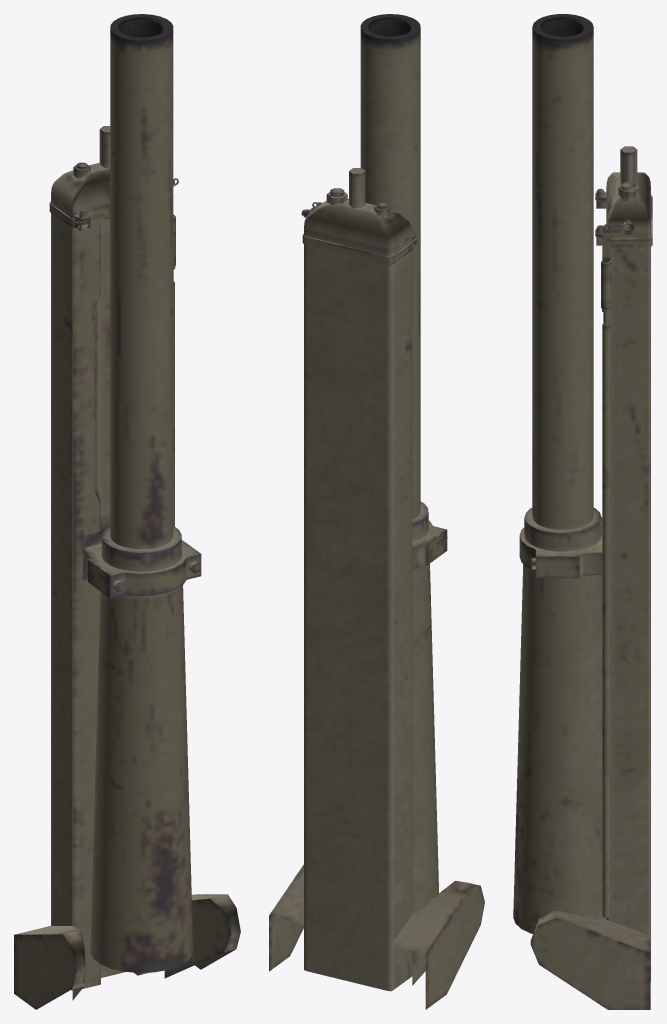
The model's file is Gun_01.glb.
3 renders of one model, left to right at view 1: azimuth 30°, elevation 25°; view 2: azimuth 150°, elevation 25°; view 3: azimuth 270°, elevation 25°, orthographic. The views are drawn at different scales.
Parts seen in each view (by area): view 1: set_0_group_0; view 2: set_0_group_0; view 3: set_0_group_0.
Part boxes in pixels (x1,y1,x2,y2): set_0_group_0: [14, 14, 240, 1009]; set_0_group_0: [269, 14, 484, 1009]; set_0_group_0: [513, 14, 652, 1009].
Bounding box in the file's own units: 0.3805 × 2.16 × 0.2895.
Materials: 1 (1 with a texture image).
